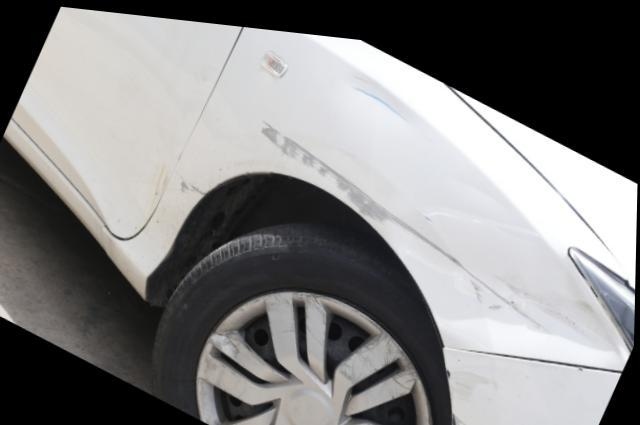dent: (268, 122, 611, 343)
